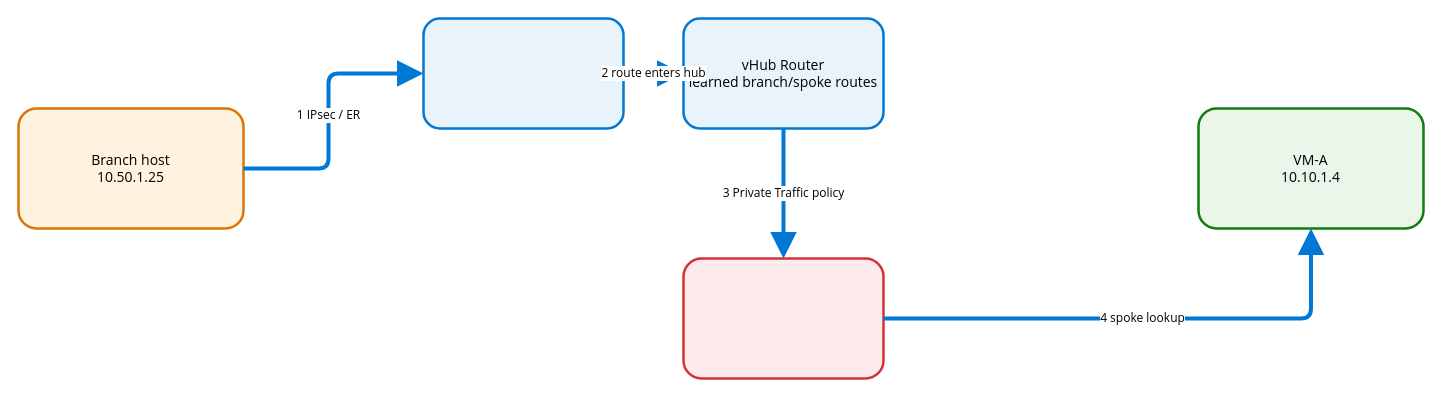
Image size: 1442x397. Some labels were removed from this diagram. The centre of each missing label's shape, as x and y in pixels:
Integrated NGFW branch↔Azure policy/state: the point at 783,318
VPN / ER Gateway branch attachment: the point at 523,73
